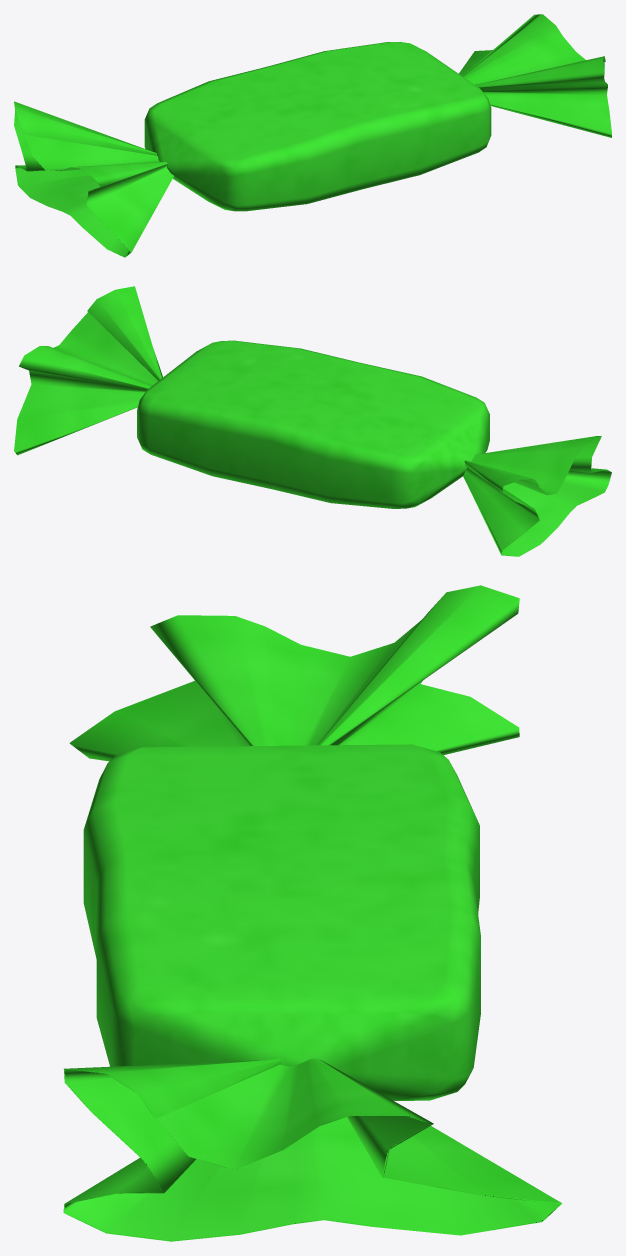
Rendered from PERMEN C.fbx.
3 renders of one model, top to bottom at view 1: azimuth 30°, elevation 25°; view 2: azimuth 150°, elevation 25°; view 3: azimuth 270°, elevation 25°, orthographic. The views are drawn at different scales.
Visible parts, largest first — view 1: Diorama.001; view 2: Diorama.001; view 3: Diorama.001.
Part boxes in pixels (x1,y1,x2,y2): Diorama.001: (14, 14, 611, 257); Diorama.001: (14, 286, 611, 556); Diorama.001: (63, 585, 561, 1241).
Bounding box in the file's own units: 116 × 47.99 × 17.66.
1 material, 1 textured.
